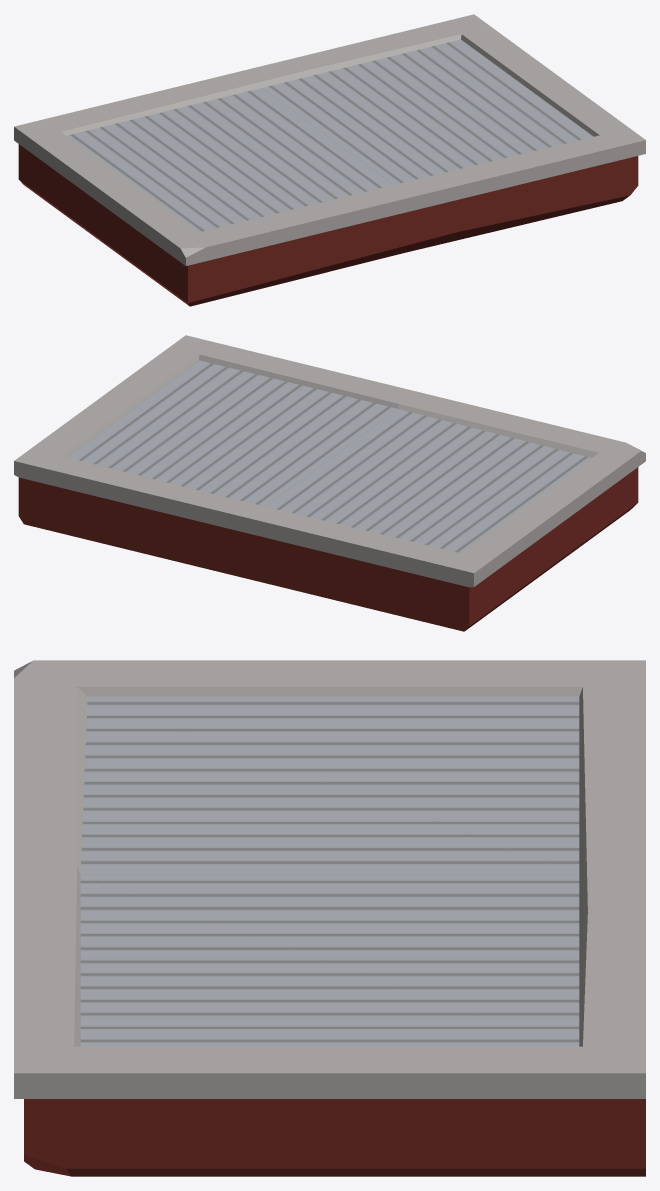
File: SM_Bld_Awning_Large_01.obj
3 renders of one model, top to bottom at view 1: azimuth 30°, elevation 25°; view 2: azimuth 150°, elevation 25°; view 3: azimuth 270°, elevation 25°, orthographic. The views are drawn at different scales.
Visible parts, largest first — view 1: SM_Bld_Awning_Large_01_0, SM_Bld_Awning_Large_01_1; view 2: SM_Bld_Awning_Large_01_0, SM_Bld_Awning_Large_01_1; view 3: SM_Bld_Awning_Large_01_1, SM_Bld_Awning_Large_01_0.
Part boxes in pixels (left/top/right/bottom): SM_Bld_Awning_Large_01_0: left=14, top=14, right=645, bottom=306; SM_Bld_Awning_Large_01_1: left=66, top=39, right=593, bottom=232; SM_Bld_Awning_Large_01_0: left=14, top=335, right=645, bottom=631; SM_Bld_Awning_Large_01_1: left=67, top=360, right=591, bottom=553; SM_Bld_Awning_Large_01_1: left=80, top=696, right=579, bottom=1046; SM_Bld_Awning_Large_01_0: left=14, top=660, right=645, bottom=1176.
Size of the model in its own units: 5.11 by 0.6464 by 3.3.
Materials: 2 (2 with a texture image).
